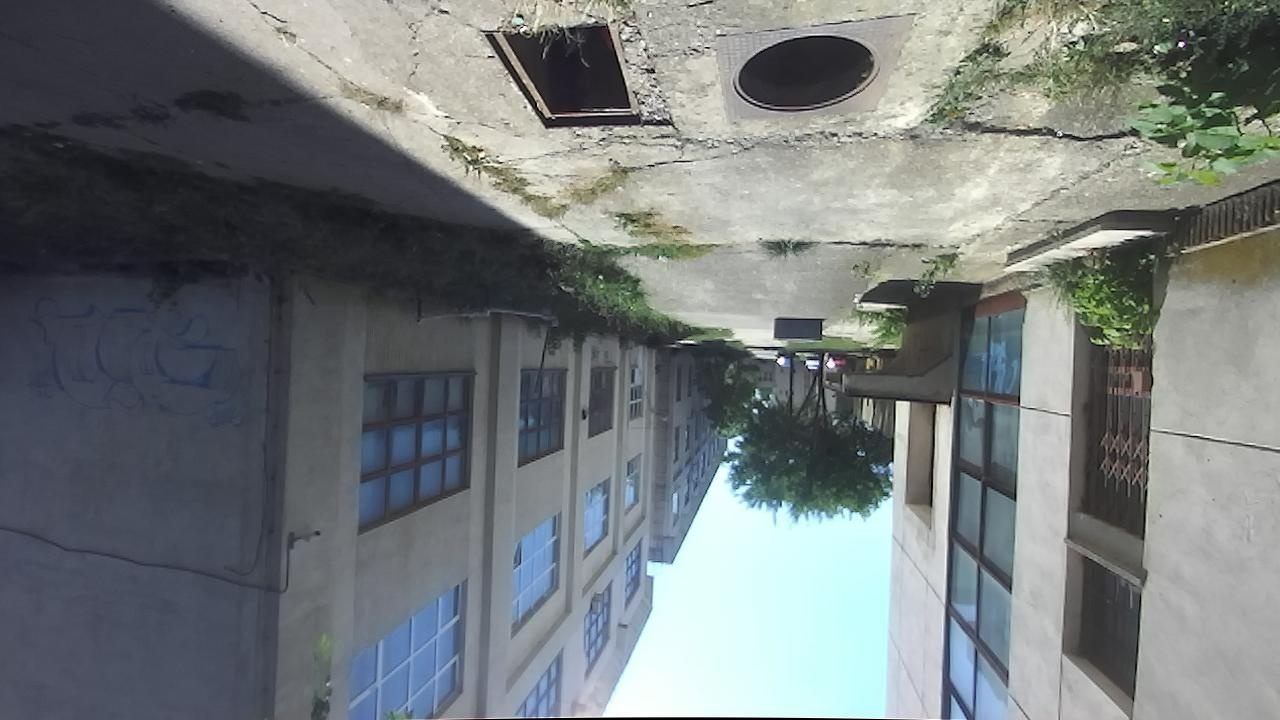drain: (473, 22, 645, 137), (727, 33, 887, 119)
